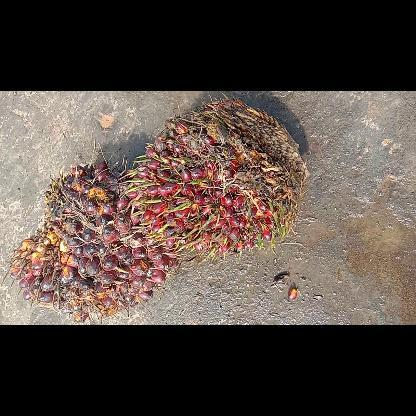Kurang masak: (119, 94, 308, 260)
TBS masak: (10, 160, 180, 322)
